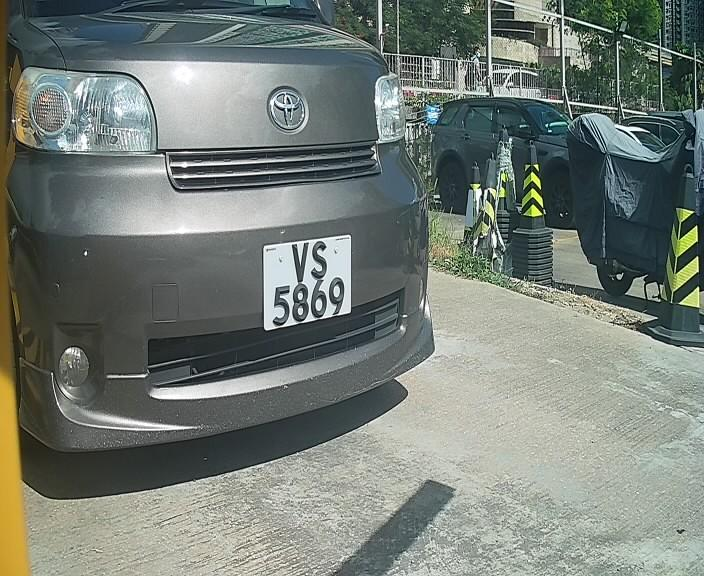License Plate: (255, 227, 356, 340)
